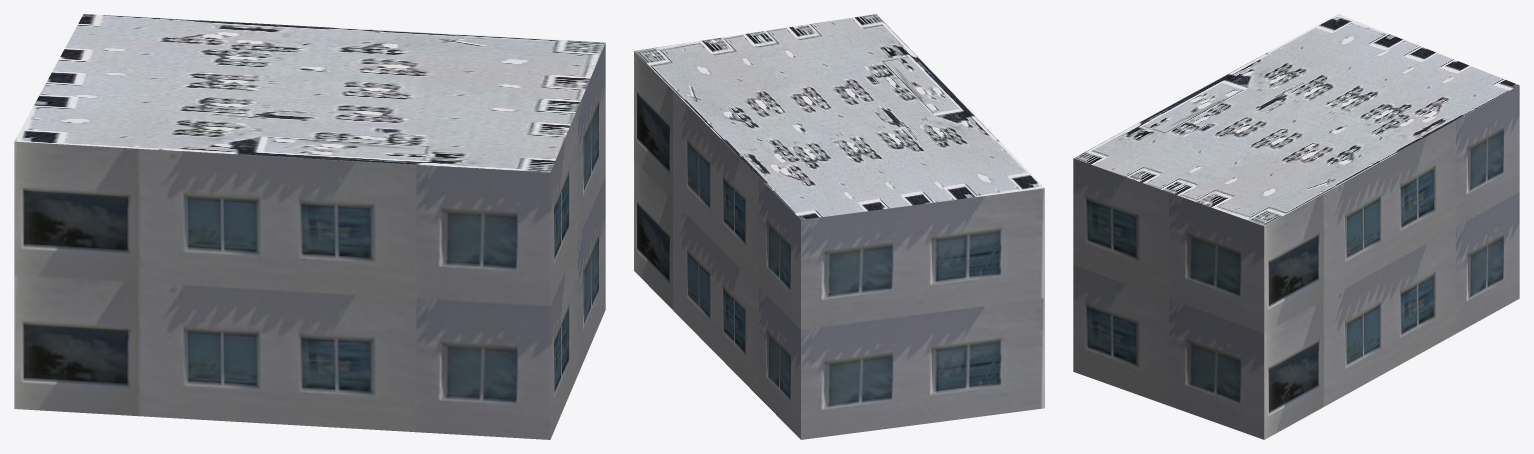
Rendered from ResTex__1992.fbx.
3 views of the same model, side by side, from view 1: azimuth 30°, elevation 25°; view 2: azimuth 150°, elevation 25°; view 3: azimuth 270°, elevation 25° (orthographic). The views are drawn at different scales.
Visible parts, largest first — view 1: CityEngineMaterial_10_m, CityEngineMaterial_m; view 2: CityEngineMaterial_10_m, CityEngineMaterial_m; view 3: CityEngineMaterial_10_m, CityEngineMaterial_m.
Boxes of the visible parts, bbox=[...] form: CityEngineMaterial_10_m: bbox=[14, 43, 605, 439]; CityEngineMaterial_m: bbox=[14, 14, 605, 172]; CityEngineMaterial_10_m: bbox=[634, 51, 1044, 439]; CityEngineMaterial_m: bbox=[634, 14, 1044, 219]; CityEngineMaterial_10_m: bbox=[1073, 85, 1519, 439]; CityEngineMaterial_m: bbox=[1074, 14, 1518, 226].
Bounding box in the file's own units: 12.8 × 6 × 11.36.
Materials: 2 (2 with a texture image).
